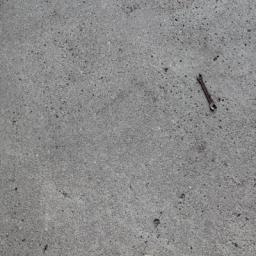FOD: (195, 73, 225, 115)
